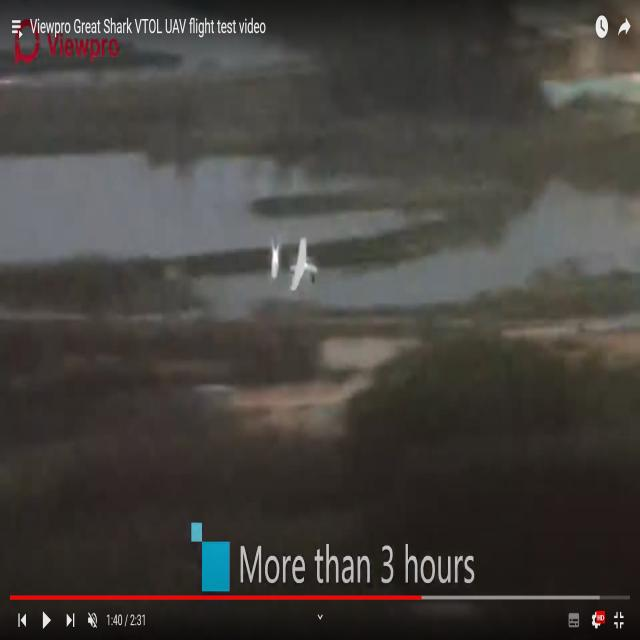iha: (270, 229, 318, 284)
